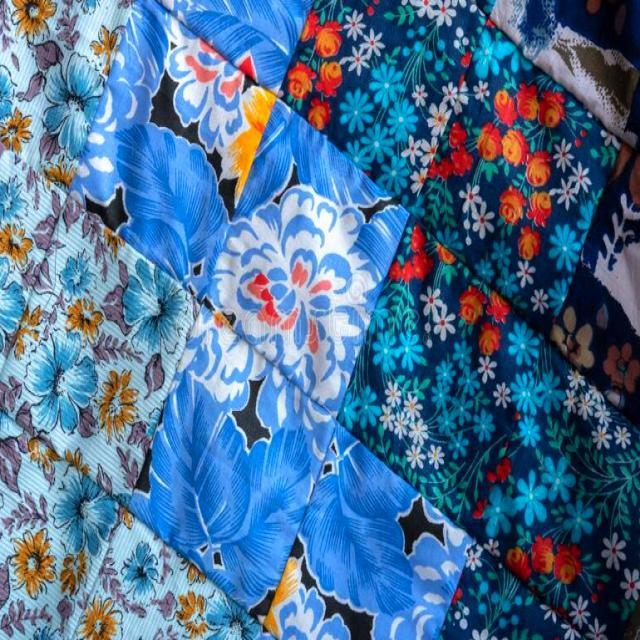clothes: (13, 63, 538, 502)
